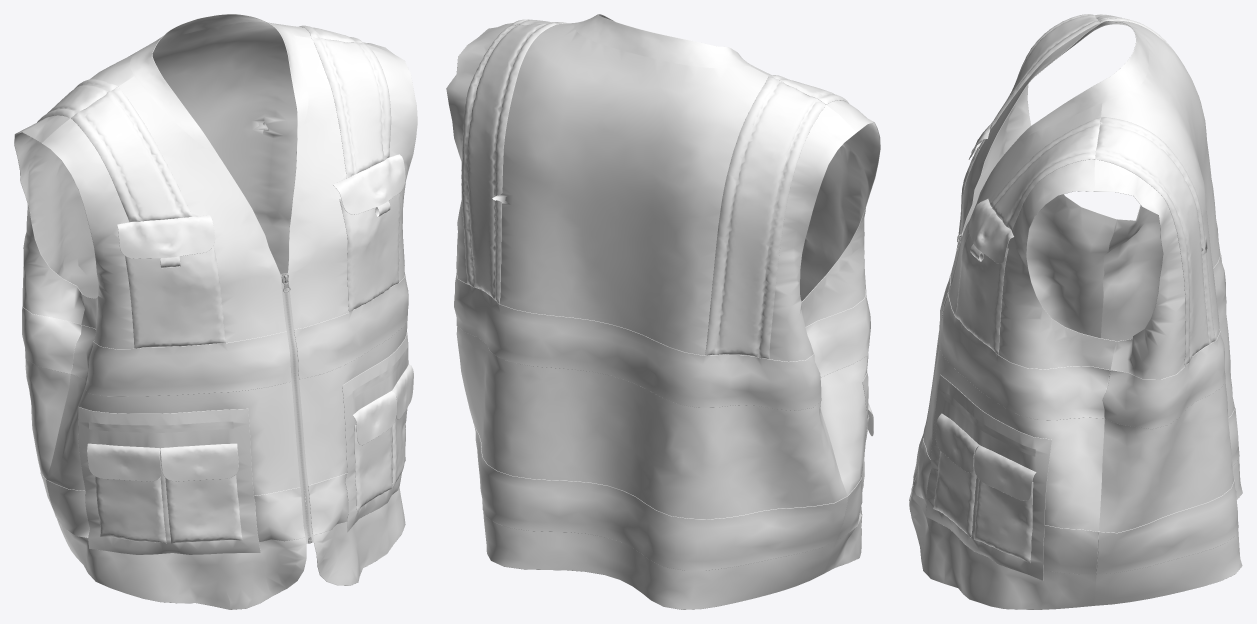
Rendered from ThanosVest002.fbx.
3 views of the same model, side by side, from view 1: azimuth 30°, elevation 25°; view 2: azimuth 150°, elevation 25°; view 3: azimuth 270°, elevation 25° (orthographic). The views are drawn at different scales.
Visible parts, largest first — view 1: MV2_Hi-Vis Zipper Front Black Safety Vest_fbx_thick; view 2: MV2_Hi-Vis Zipper Front Black Safety Vest_fbx_thick; view 3: MV2_Hi-Vis Zipper Front Black Safety Vest_fbx_thick.
Boxes of the visible parts, bbox=[...] form: MV2_Hi-Vis Zipper Front Black Safety Vest_fbx_thick: bbox=[14, 14, 417, 609]; MV2_Hi-Vis Zipper Front Black Safety Vest_fbx_thick: bbox=[446, 14, 880, 609]; MV2_Hi-Vis Zipper Front Black Safety Vest_fbx_thick: bbox=[909, 14, 1242, 609].
Size of the model in its own units: 42.51 by 57.94 by 34.25.
